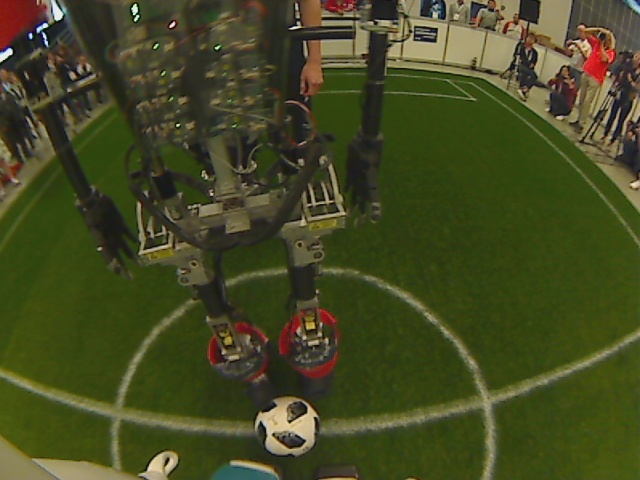ball: (251, 394, 325, 463)
